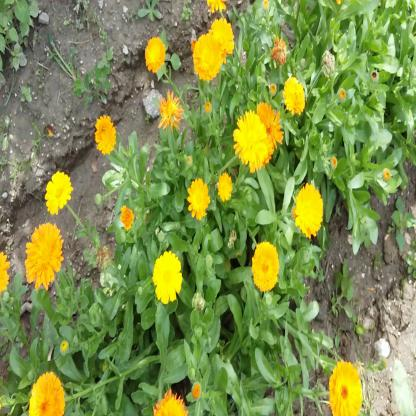marigold: (25, 224, 62, 288), (235, 111, 269, 169), (330, 361, 362, 414), (30, 373, 65, 414), (295, 184, 323, 234), (152, 254, 180, 304), (252, 244, 279, 292), (193, 34, 222, 77), (44, 171, 71, 213), (187, 178, 210, 221), (92, 113, 116, 154), (283, 76, 306, 116), (144, 35, 166, 72), (213, 17, 234, 55), (158, 94, 180, 130), (217, 174, 232, 201)
